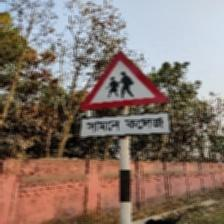College-in-front: (73, 60, 167, 147)
